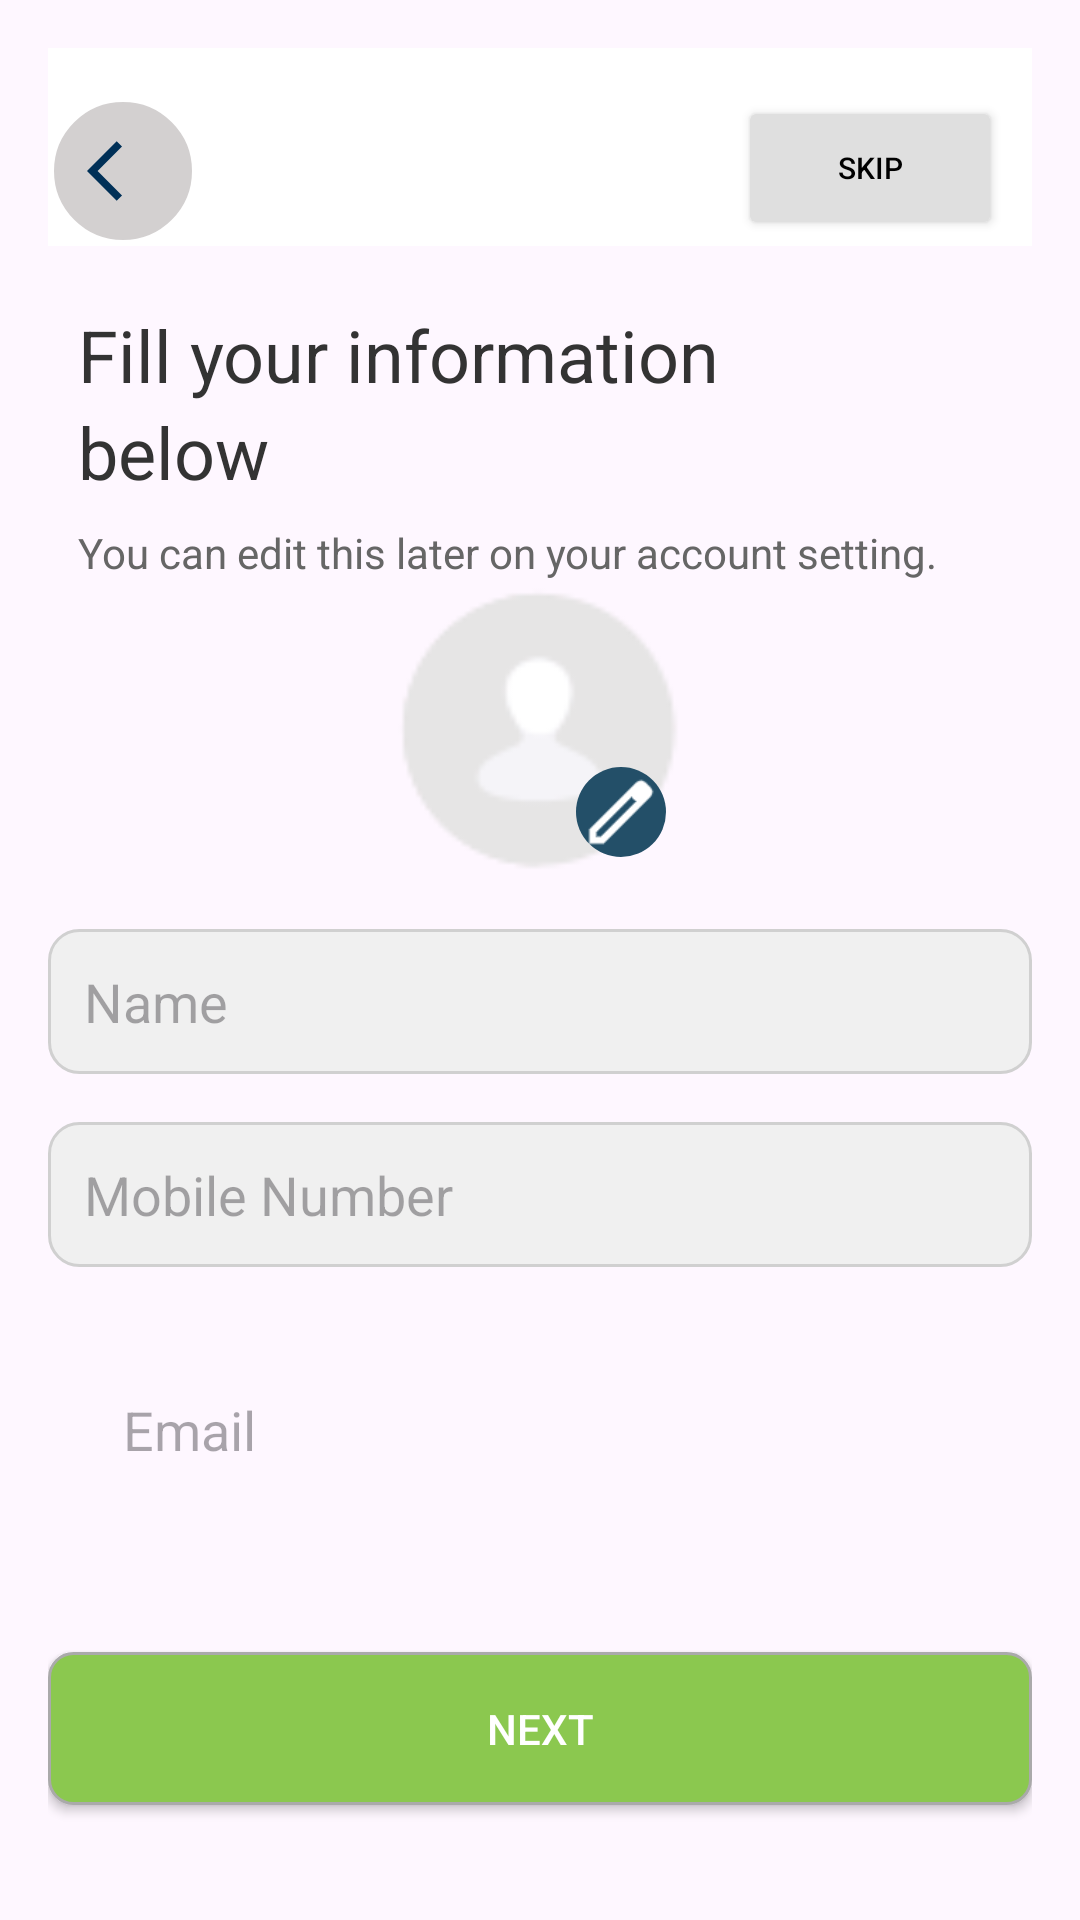

Locate icon controls on the screen. Image size 1080×1920, boxes as BBox(x1, y1, x2, y2).
arrow back: BBox(54, 102, 192, 240)
